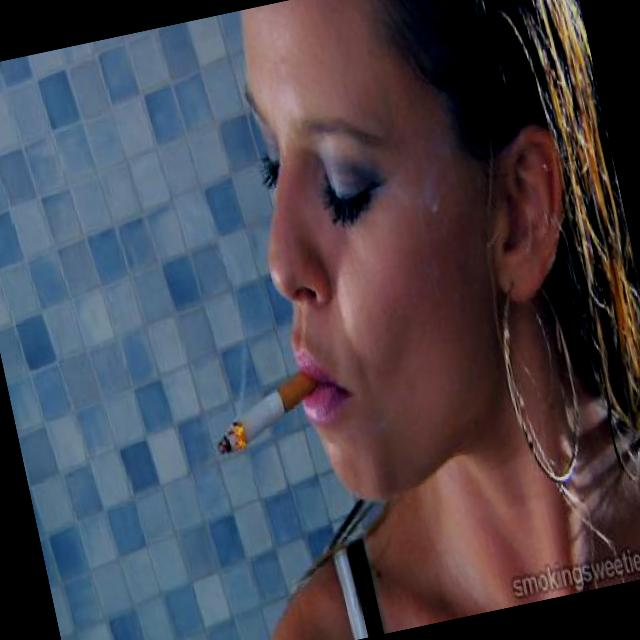cigarette: (190, 332, 353, 481)
